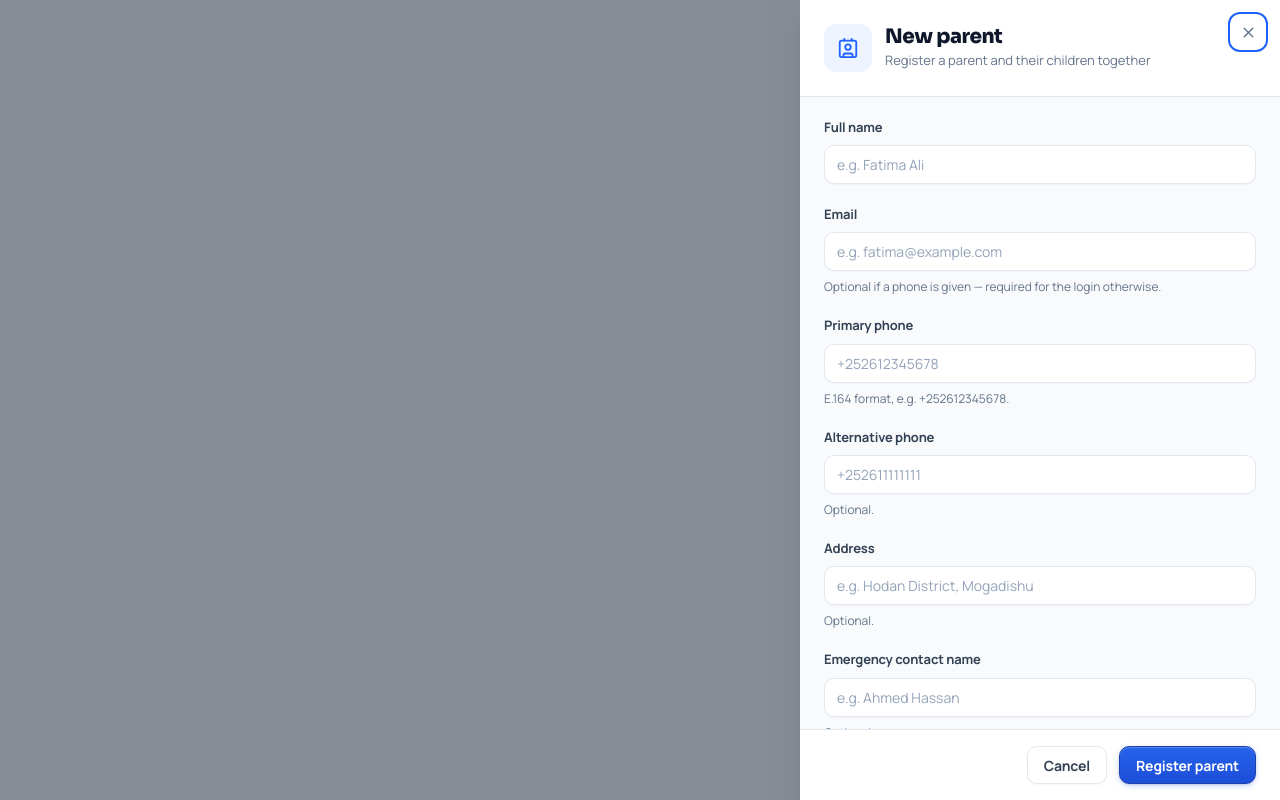
Scenario: CreateParentForm › as org_admin (own organization is implicit) › requires at least one of email or phone
This screenshot has width=1280, height=800.
In the field with placeholder "e.g. Fatima Ali": (1040, 165) [824, 145, 1256, 184], type "Fatima Ali"
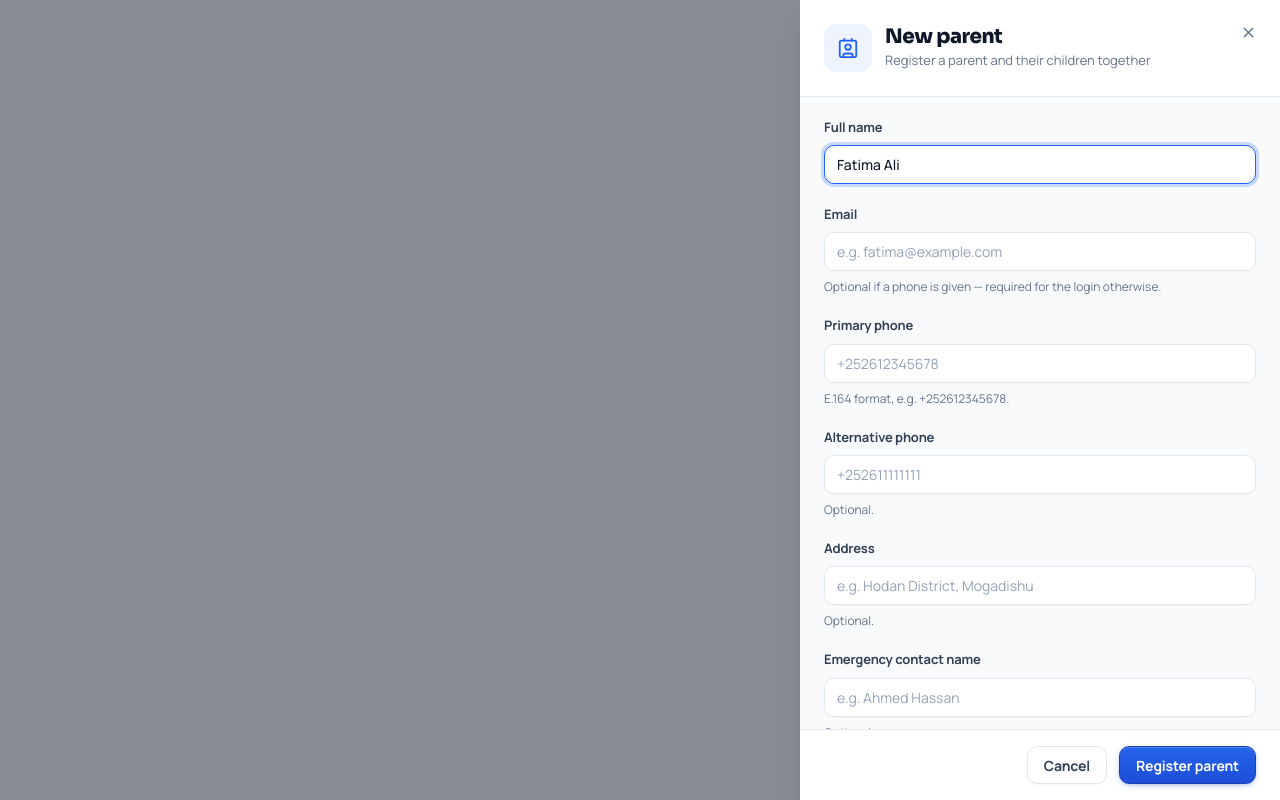
Click the button "Register parent": (1188, 765) [1119, 746, 1256, 784]
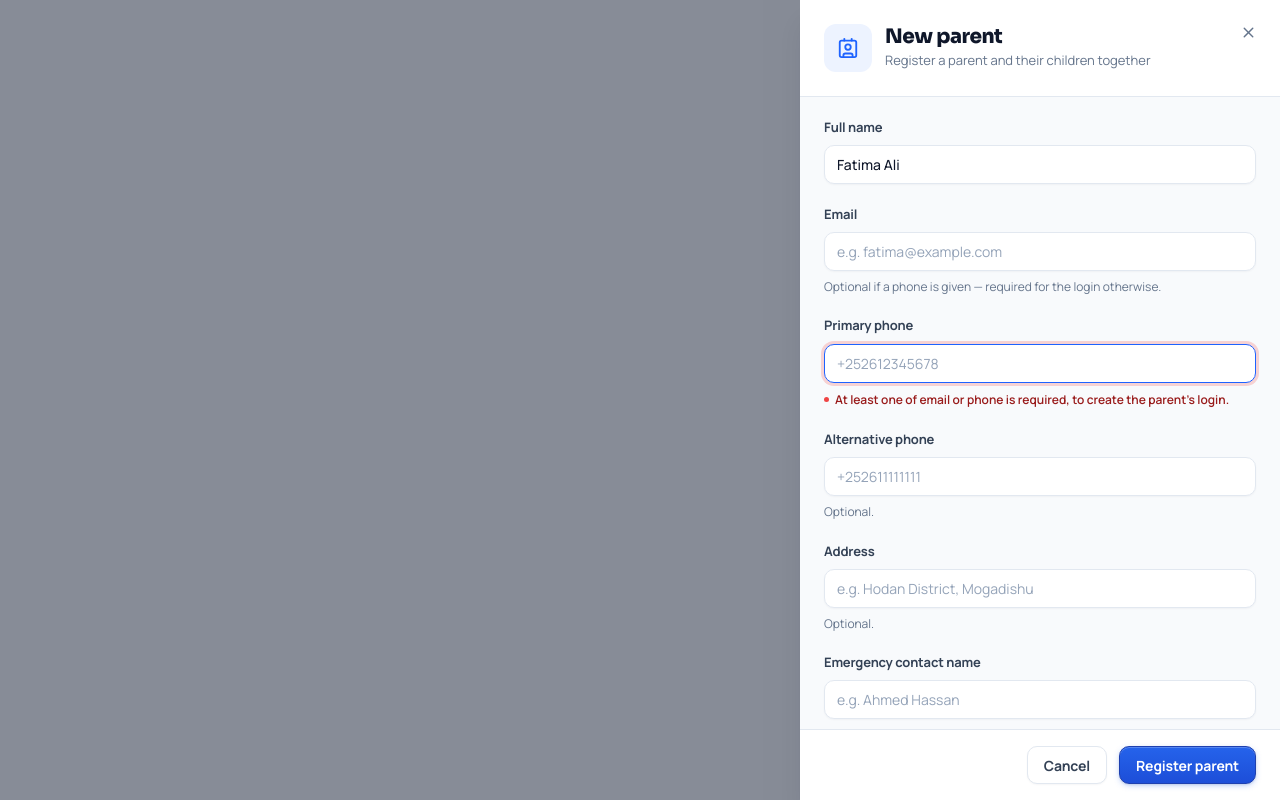
expect the text "At least one of email or phone is required, to create the parent's login." is shown: met, box [824, 391, 1256, 409]
